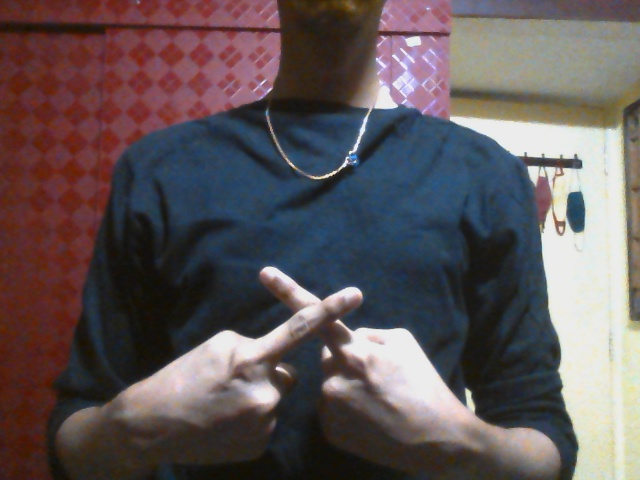X: (155, 266, 451, 467)
